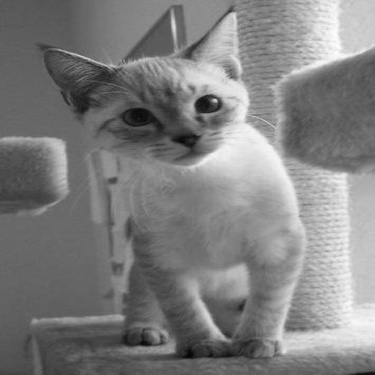cat: (40, 6, 306, 357)
